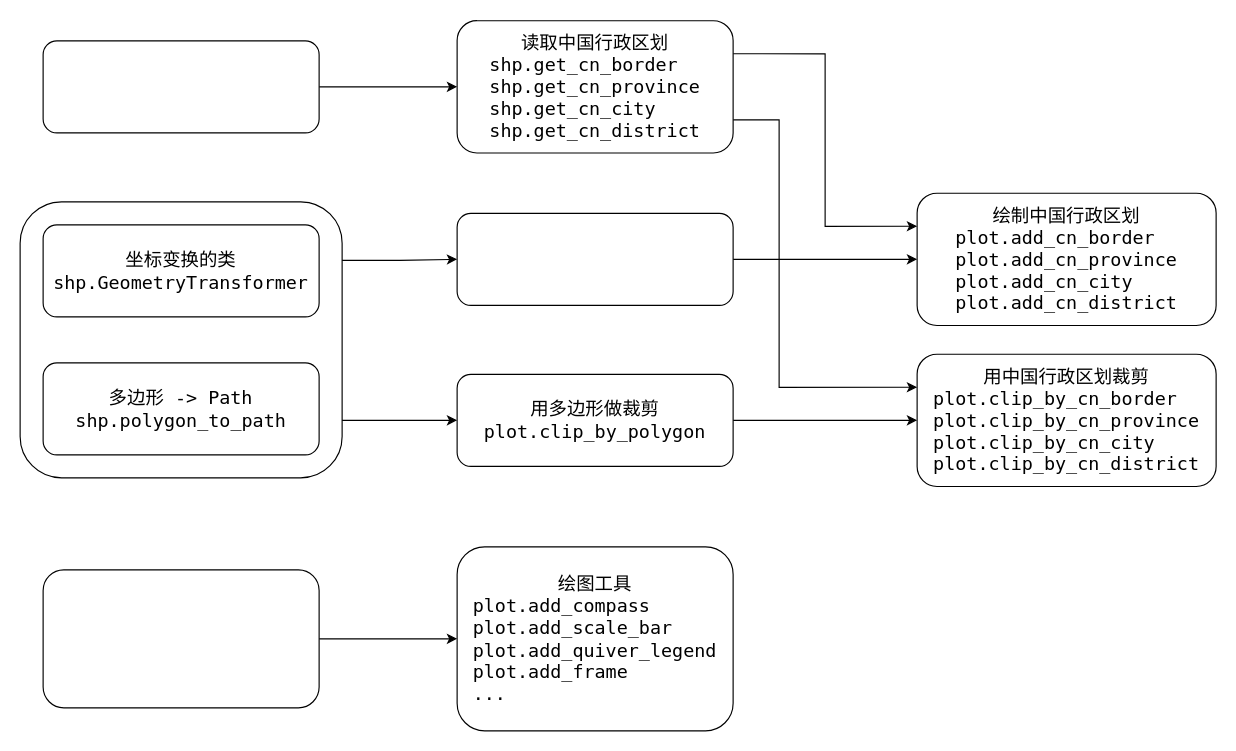
Some shapes in this 1236 by 751 pixel diagram are drawn without their labels. The shapes that lost their labels are listed below. From the top down, each one's box as (x1, y1, x2, y2) in pixels, then its label:
(42, 40, 319, 133): 读取文件的类 _shp.BinaryReader
(456, 212, 733, 305): 绘制多边形 plot.add_polygons
(42, 569, 319, 708): 工具类 _artist.Compass _artist.ScaleBar _artist.QuiverLegend _artist.Frame
